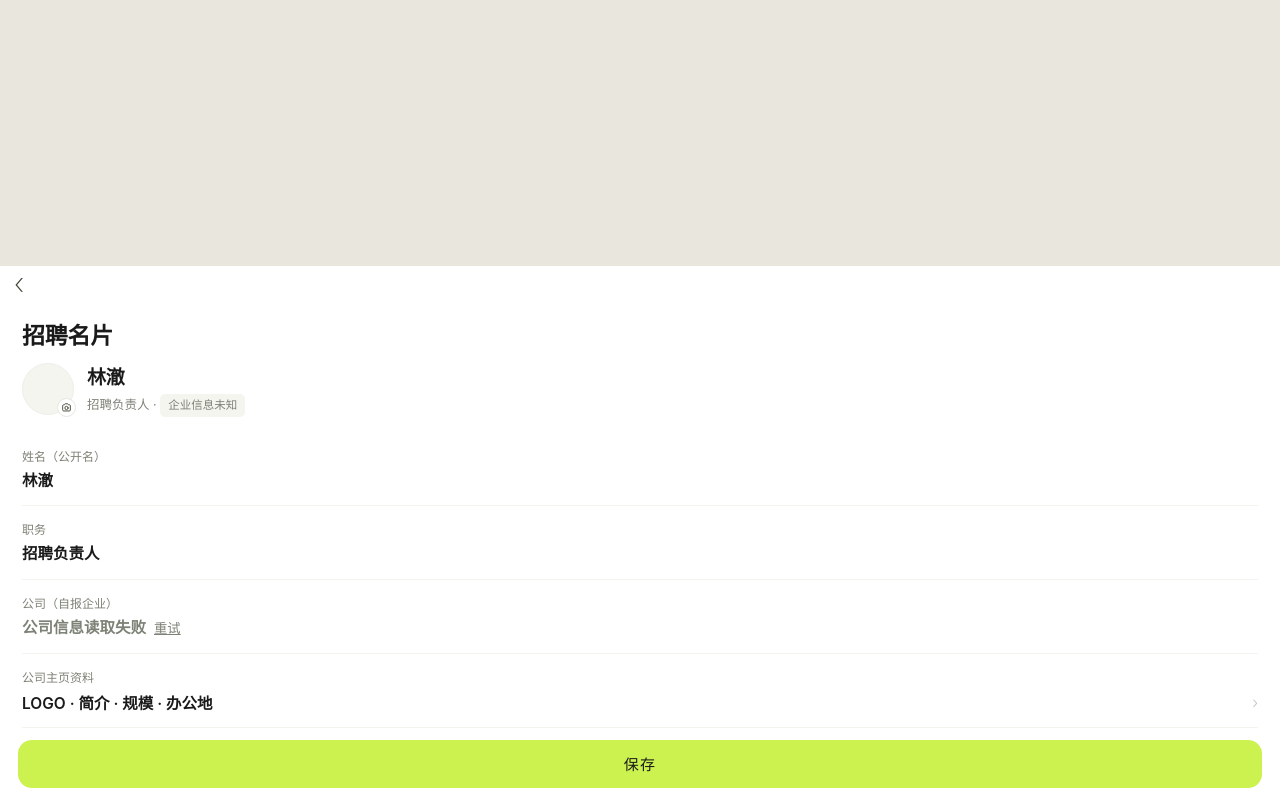
Test: 招聘名片 · 自报公司（合同 C） › 初始加载显示加载中，读取失败显示重试且重试重新读取
The image size is (1280, 800).
(page scrolled)
Check: the text "公司信息加载中…" is shown, box 22,618 -> 181,637
Check: the text "公司信息读取失败" is shown, box 22,618 -> 146,637
Click the button "重试". click: (167, 628)
box: 154,618 -> 181,637
(page scrolled)
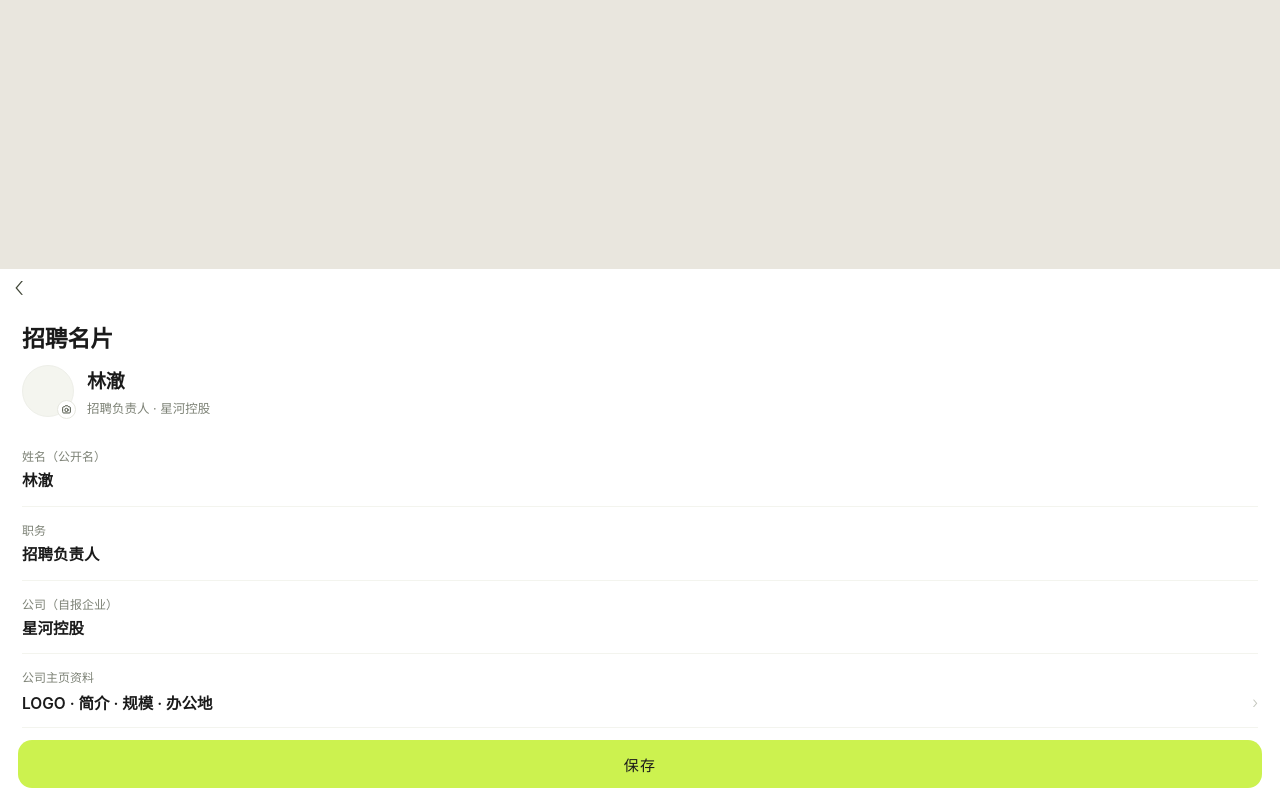
Check: the button "星河控股" is shown, box 22,618 -> 1258,639
